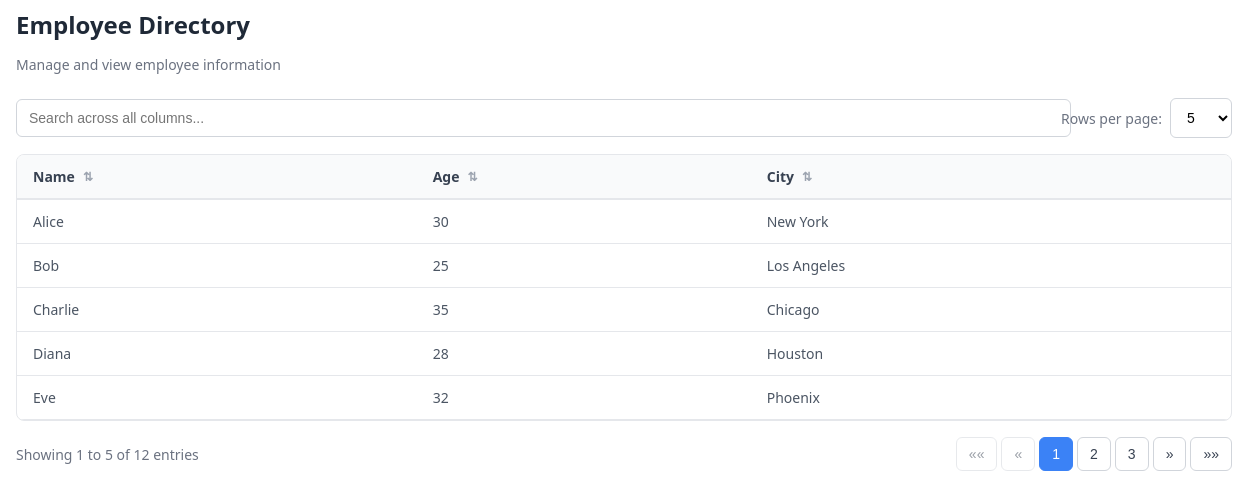
it: DataTable Component › Pagination › navigates to next page
Click the button with test id "next-page-btn".
click(1170, 454)  # box [1153, 437, 1186, 471]
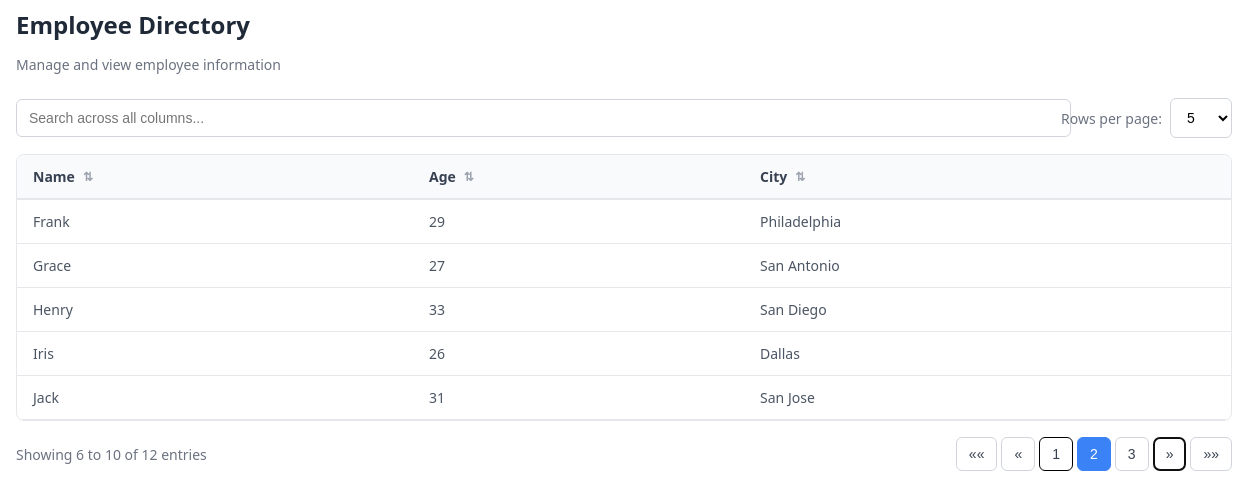
Result: the text with test id "page-info" reads "Showing 6 to 10 of 12 entries" at [16, 445, 207, 464]
